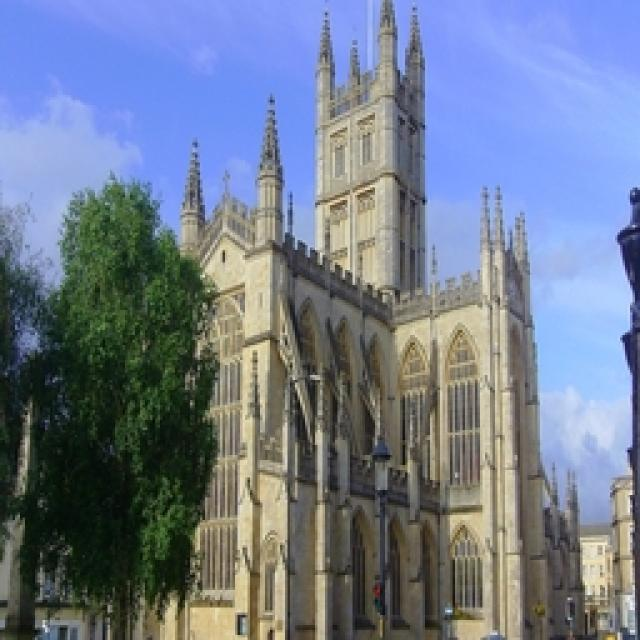Abbey: (243, 240, 514, 640)
